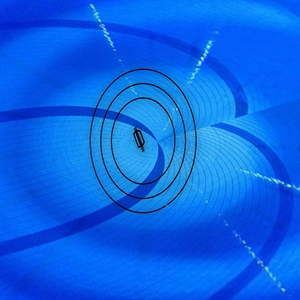circle: (87, 66, 202, 216)
submarine: (128, 126, 153, 158)
